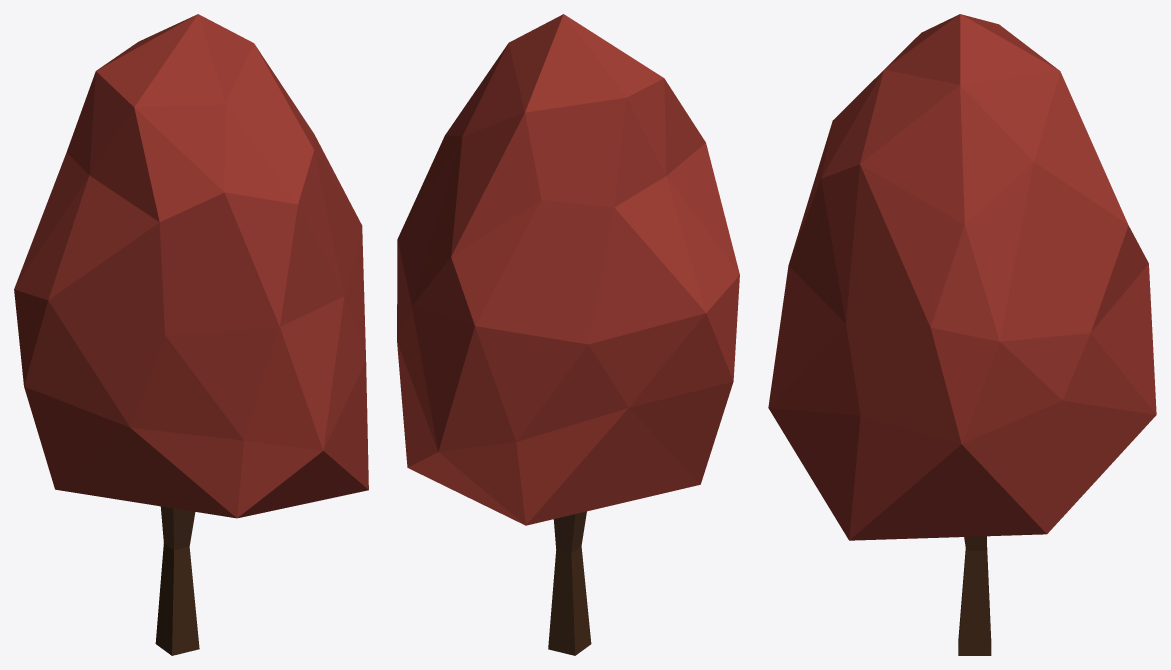
The model's file is Tree_56_Red.fbx.
3 renders of one model, left to right at view 1: azimuth 30°, elevation 25°; view 2: azimuth 150°, elevation 25°; view 3: azimuth 270°, elevation 25°, orthographic. The views are drawn at different scales.
Visible parts, largest first — view 1: Tree_56_Red_Part_1, Tree_56_Red_Part_2; view 2: Tree_56_Red_Part_1, Tree_56_Red_Part_2; view 3: Tree_56_Red_Part_1, Tree_56_Red_Part_2.
Part boxes in pixels (x1=…): Tree_56_Red_Part_1: x1=14, y1=14, x2=368, y2=518; Tree_56_Red_Part_2: x1=155, y1=506, x2=199, y2=655; Tree_56_Red_Part_1: x1=397, y1=14, x2=739, y2=525; Tree_56_Red_Part_2: x1=548, y1=511, x2=591, y2=655; Tree_56_Red_Part_1: x1=768, y1=14, x2=1156, y2=540; Tree_56_Red_Part_2: x1=958, y1=536, x2=991, y2=655.
Bounding box in the file's own units: 336 × 599 × 329.
